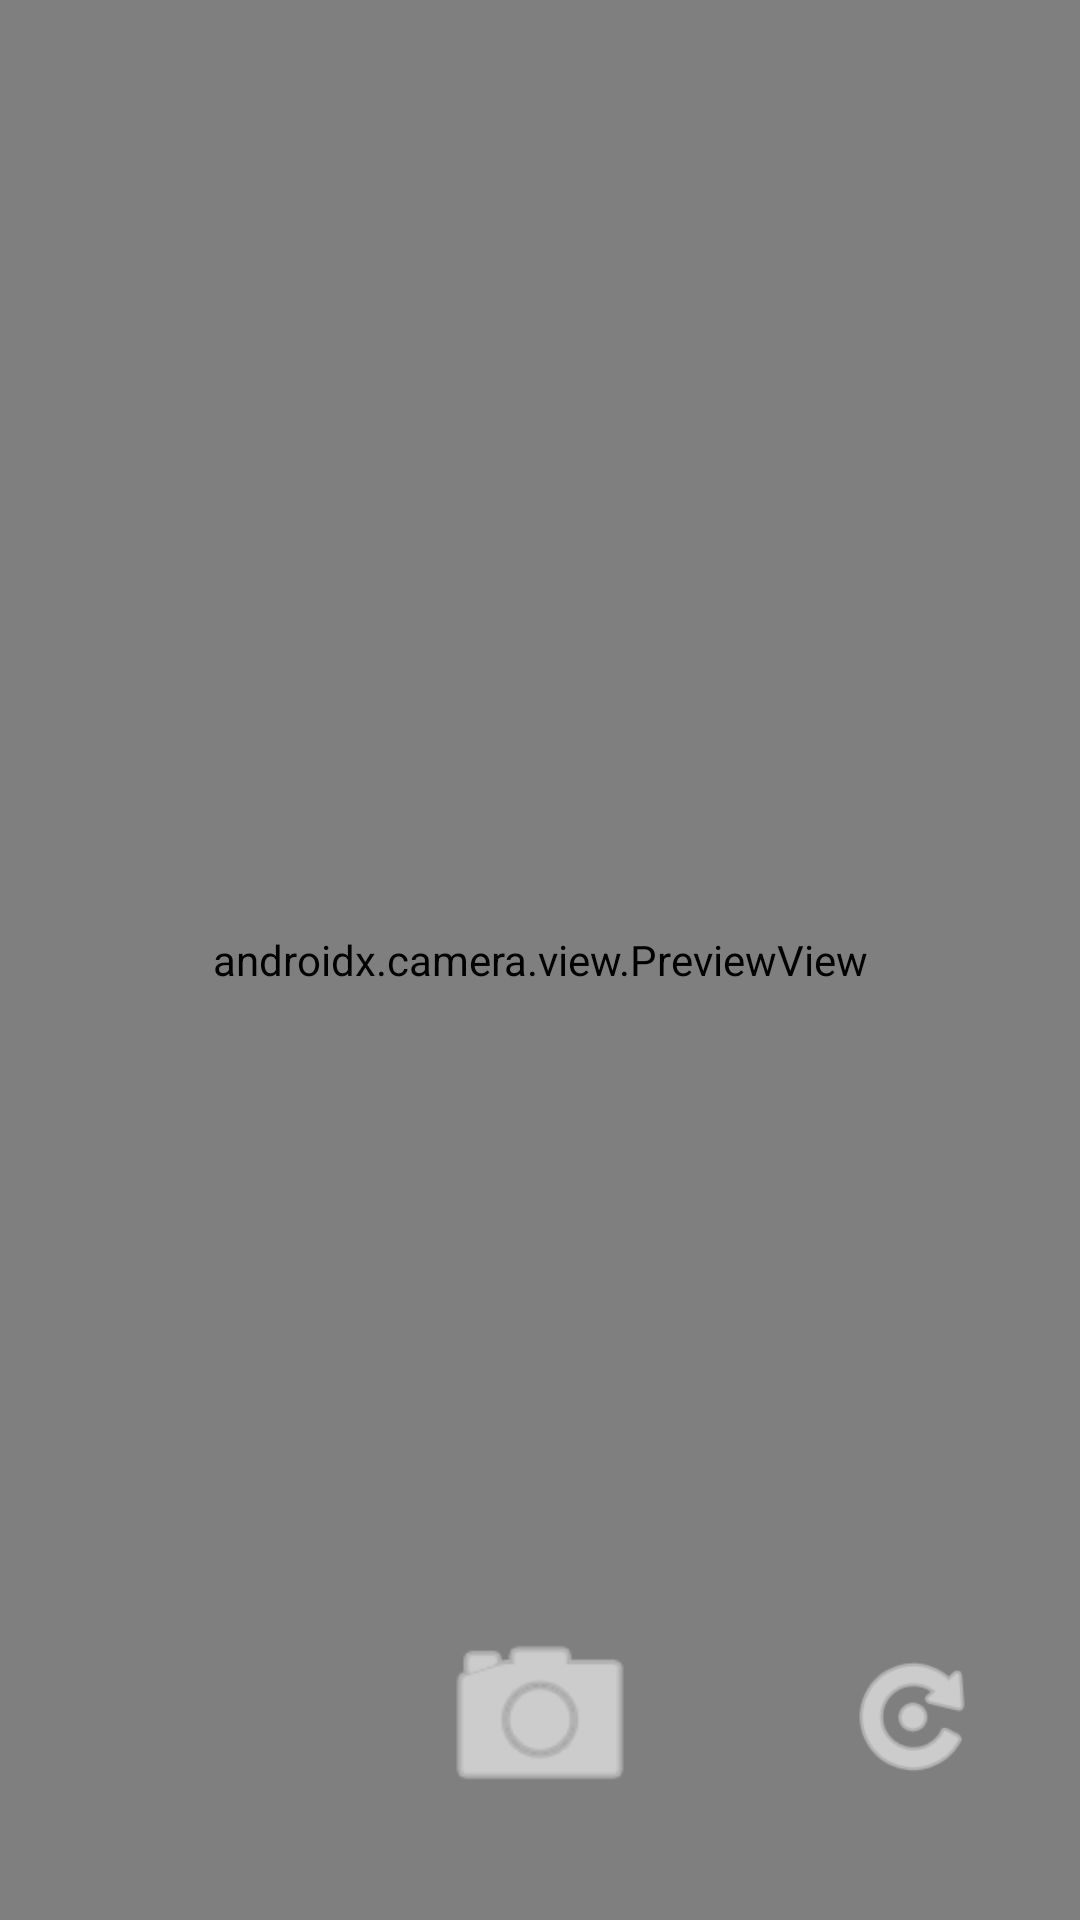

Icon click points for this 1080px×1920px phone screenshot, format [x,y]:
rotate: [912,1716]
